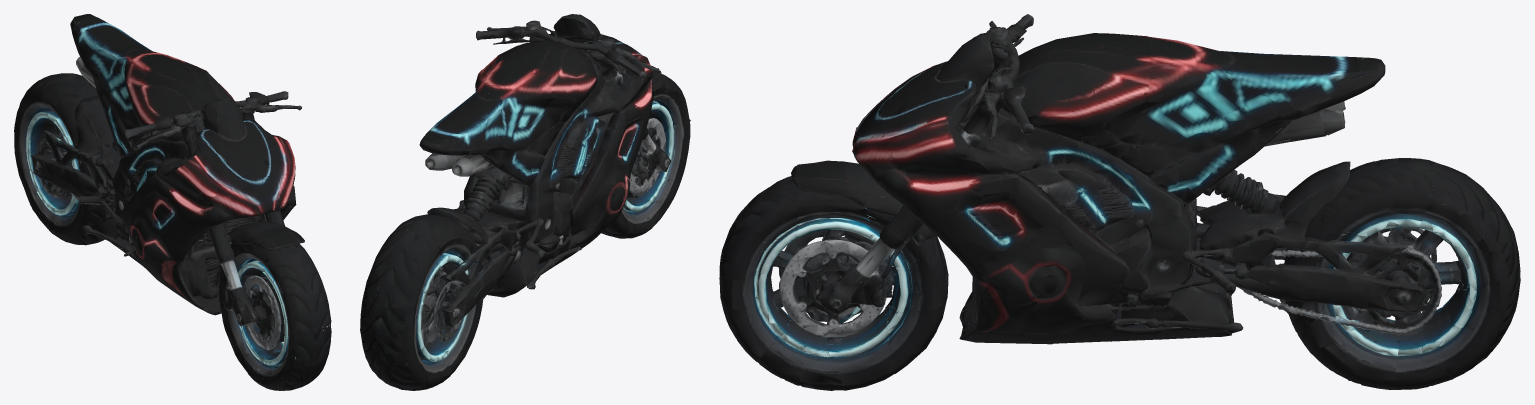
Rendered from aether-bike.glb.
3 views of the same model, side by side, from view 1: azimuth 30°, elevation 25°; view 2: azimuth 150°, elevation 25°; view 3: azimuth 270°, elevation 25° (orthographic). The views are drawn at different scales.
Visible parts, largest first — view 1: aether-bike; view 2: aether-bike; view 3: aether-bike.
Boxes of the visible parts, x1=… form: aether-bike: x1=14, y1=14, x2=331, y2=390; aether-bike: x1=360, y1=14, x2=690, y2=390; aether-bike: x1=719, y1=14, x2=1520, y2=390.
Bounding box in the file's own units: 0.7431 × 1.05 × 2.2.
1 material, 1 textured.
